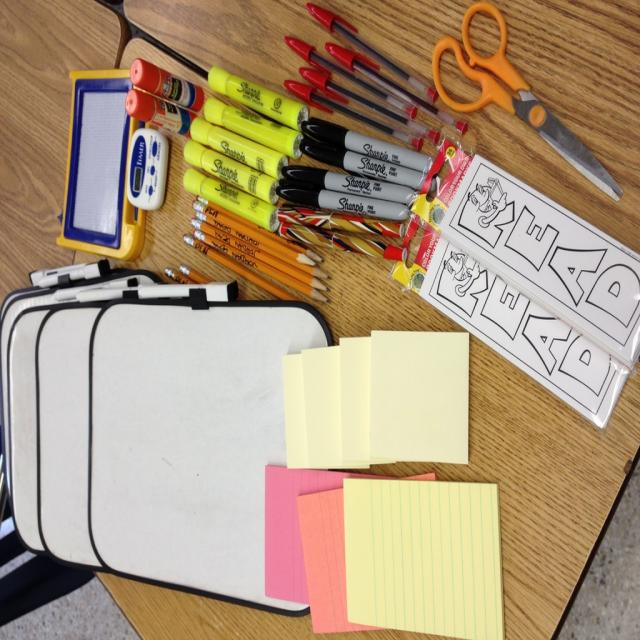scissors: (431, 0, 623, 202)
